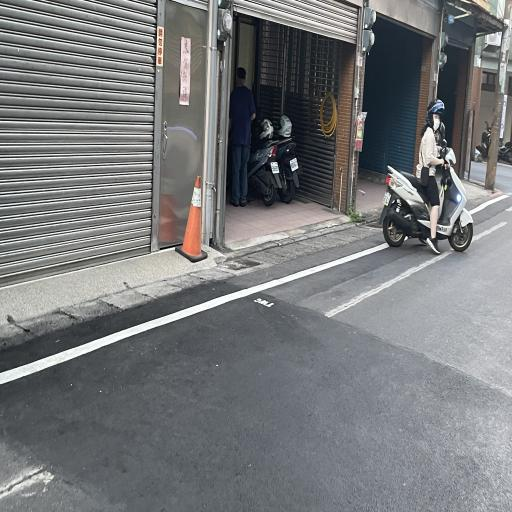car: (0, 227, 410, 393), (468, 186, 511, 214)
